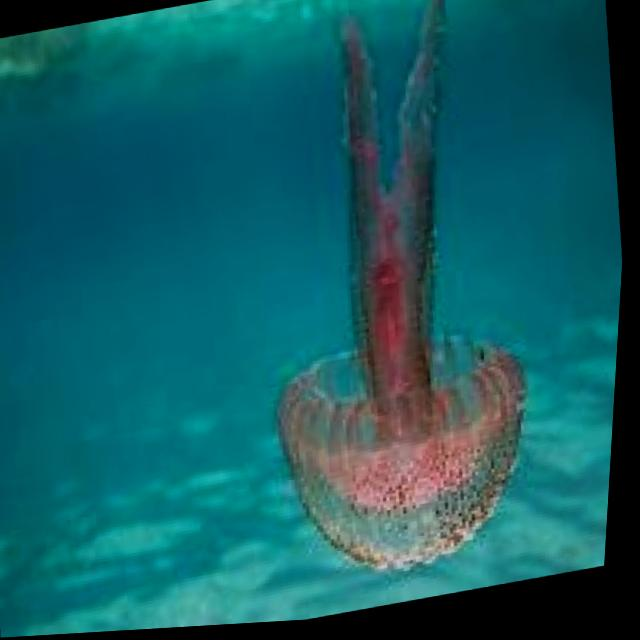Jellyfish: (223, 0, 575, 601)
